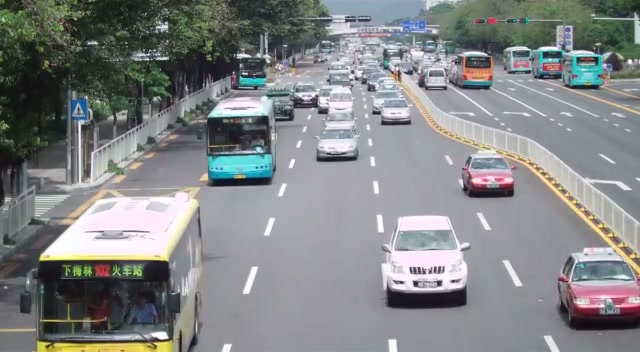bus: (32, 190, 205, 352), (205, 95, 278, 184), (450, 50, 494, 89), (561, 50, 604, 89), (231, 54, 268, 90), (532, 46, 564, 80), (503, 46, 532, 73)
car: (380, 215, 471, 308), (556, 249, 640, 329), (460, 153, 515, 198), (315, 127, 360, 161), (372, 89, 409, 113), (380, 98, 412, 125), (291, 83, 319, 107), (423, 68, 448, 91)
pedestrian: (89, 286, 124, 330), (126, 290, 159, 325)
